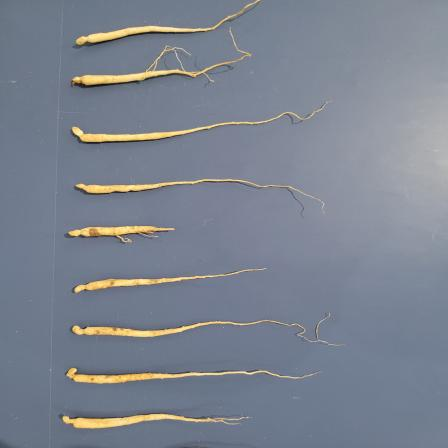Ginseng: (64, 102, 328, 146), (69, 178, 332, 218), (65, 312, 347, 347), (70, 0, 262, 49), (61, 50, 256, 91), (68, 265, 268, 296), (60, 366, 325, 385), (55, 411, 253, 431), (64, 224, 177, 244)
head: (70, 125, 90, 143), (60, 414, 80, 429), (73, 282, 94, 294), (70, 324, 91, 336), (70, 74, 88, 87), (73, 34, 92, 46), (64, 367, 79, 381), (74, 183, 93, 194), (67, 227, 86, 238)
